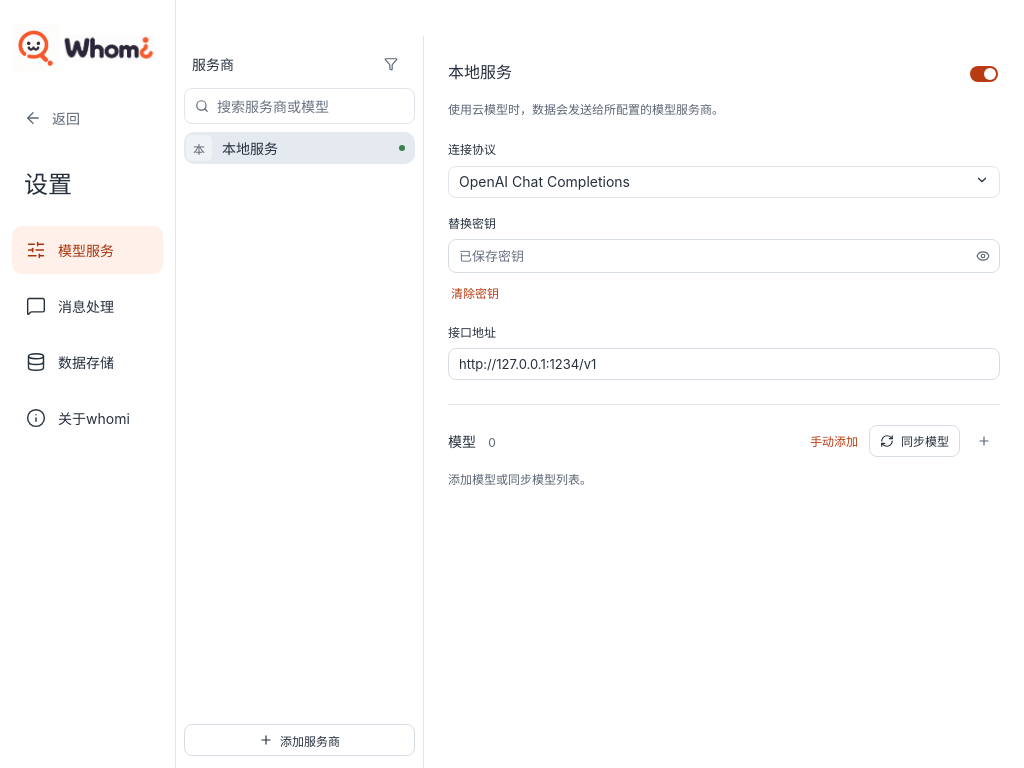
Test: 正式设置 › 搜索结果全选后确认添加，未提供容量保留未知
Click the button "同步模型": point(914, 441) x1=869 y1=425 x2=960 y2=457
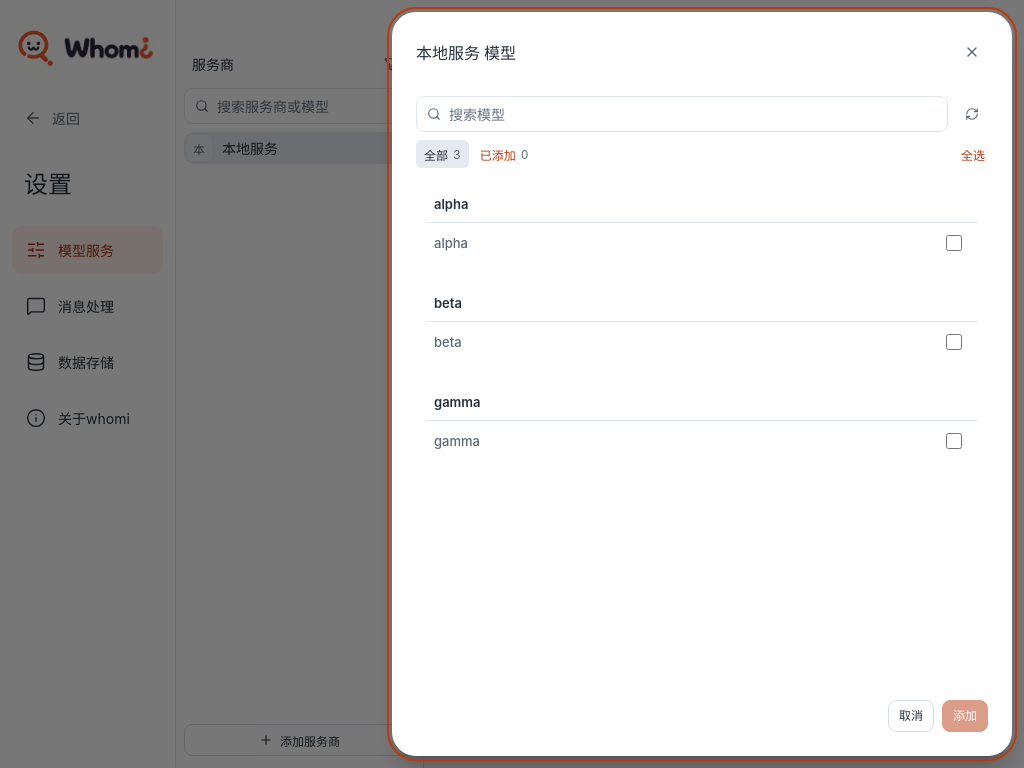
Check: the checkbox named "选择alpha" is shown, box x1=946 y1=235 x2=962 y2=251
In the field labelled "搜索模型": point(693, 114) x1=449 y1=98 x2=937 y2=130, type "beta"
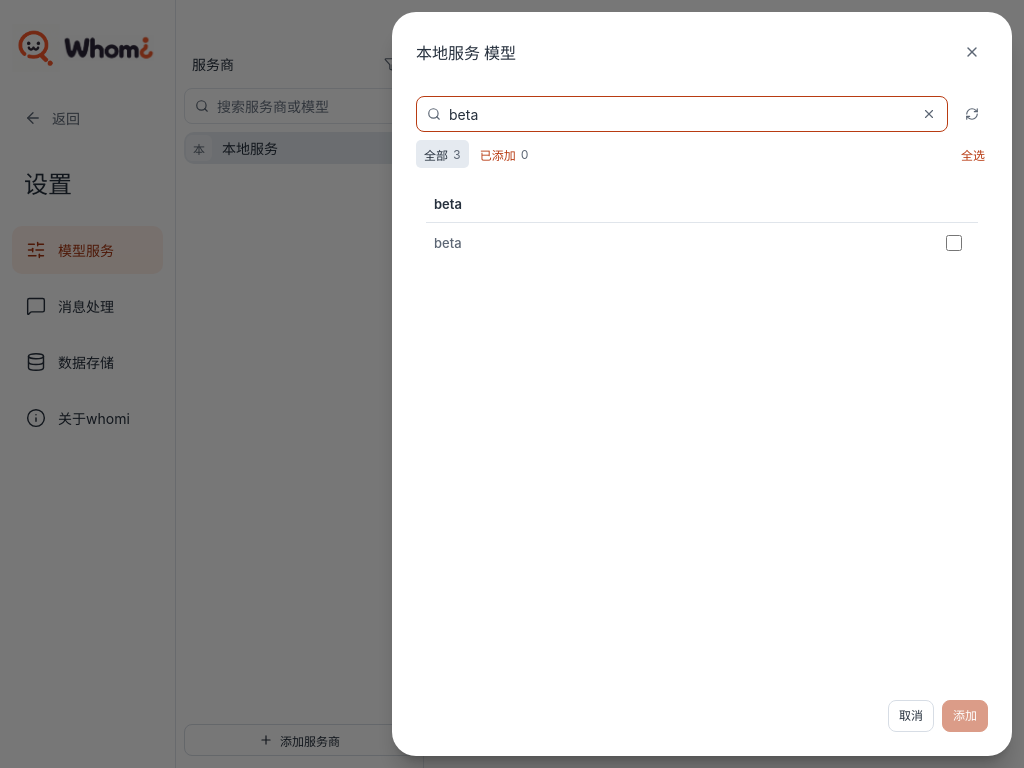
Click the button "全选": point(973, 154) x1=958 y1=140 x2=988 y2=168
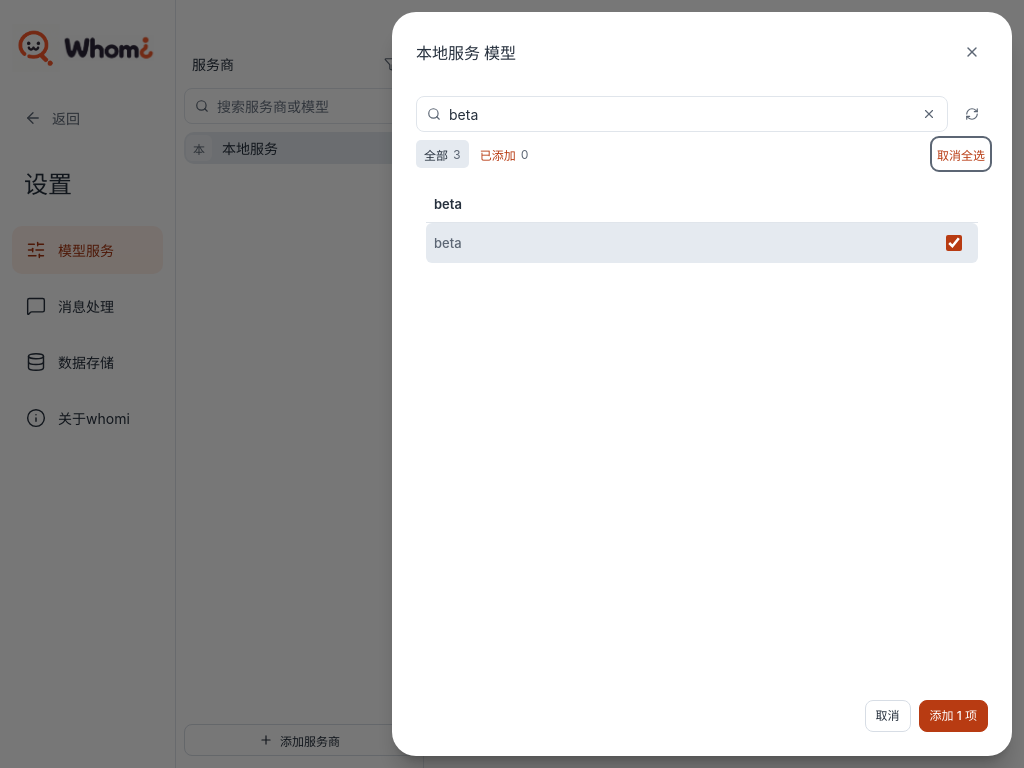
Click the button "添加 1 项": point(953, 716) x1=919 y1=700 x2=988 y2=732
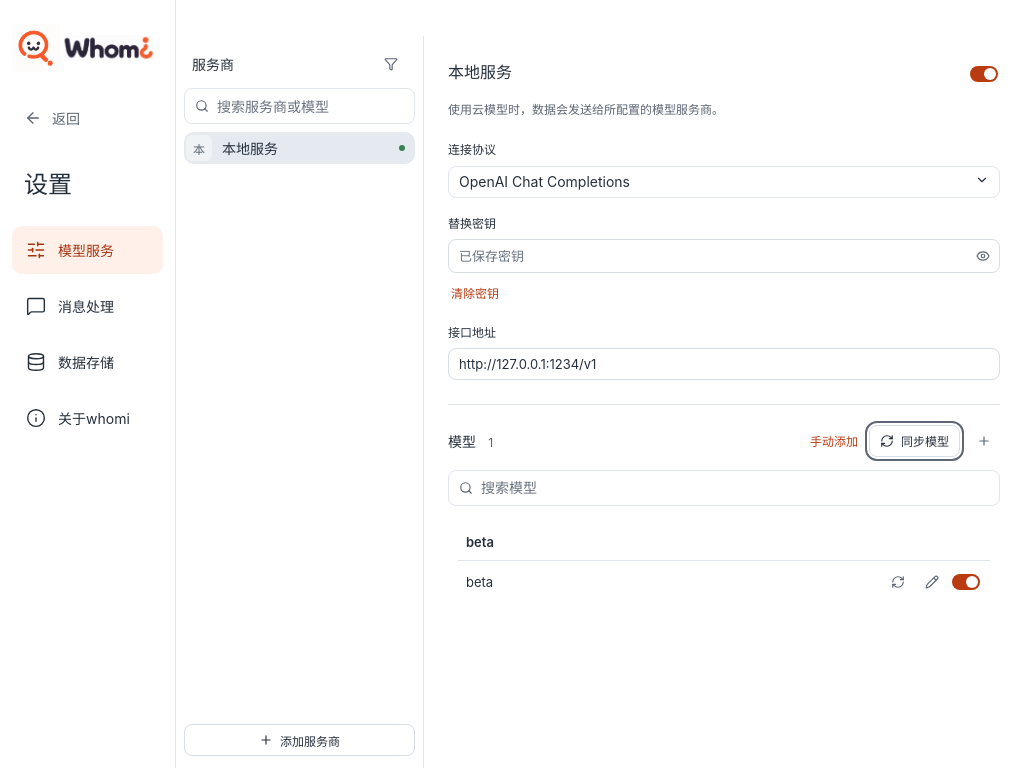
Check: the heading "本地服务 模型" is gone
Click the button named "添加模型": point(984, 441) x1=968 y1=425 x2=1000 y2=457
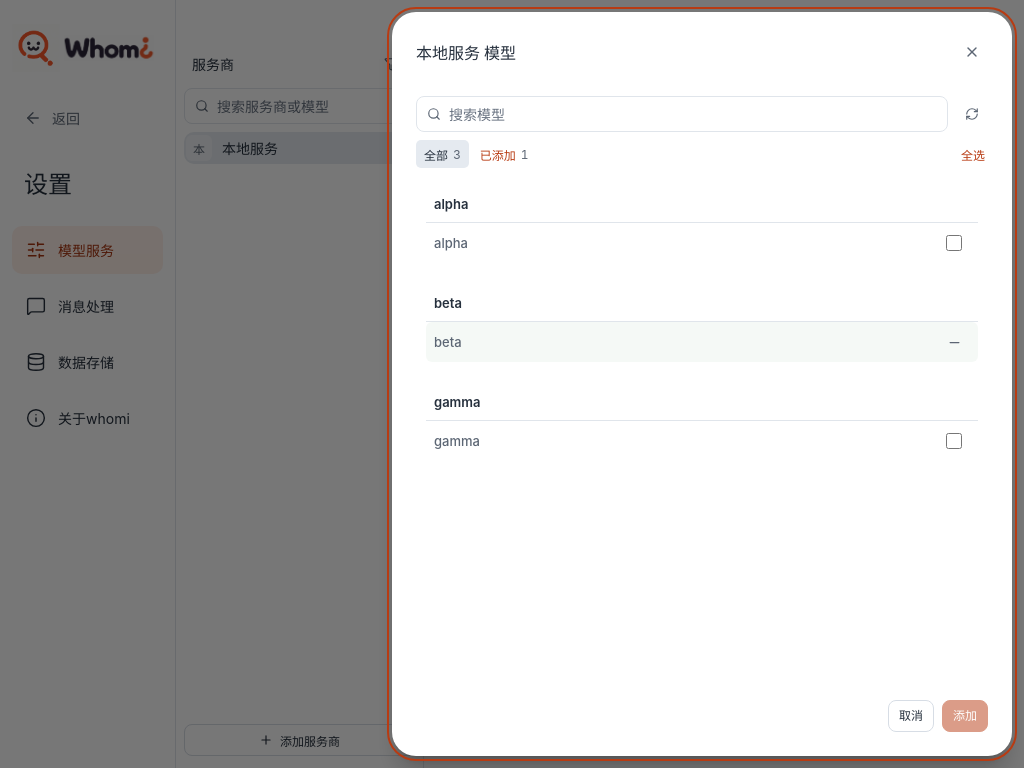
Check: the checkbox named "选择alpha" is shown, box x1=946 y1=235 x2=962 y2=251
